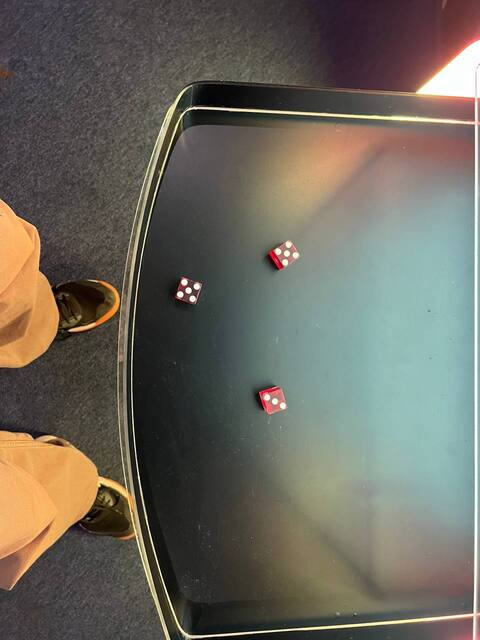five: (270, 236, 302, 271), (172, 274, 204, 306)
three: (256, 385, 292, 417)
